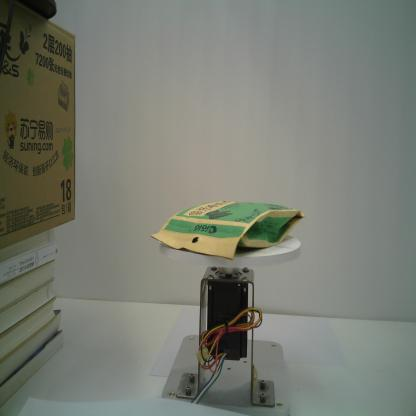Dried Food: (150, 198, 306, 262)
